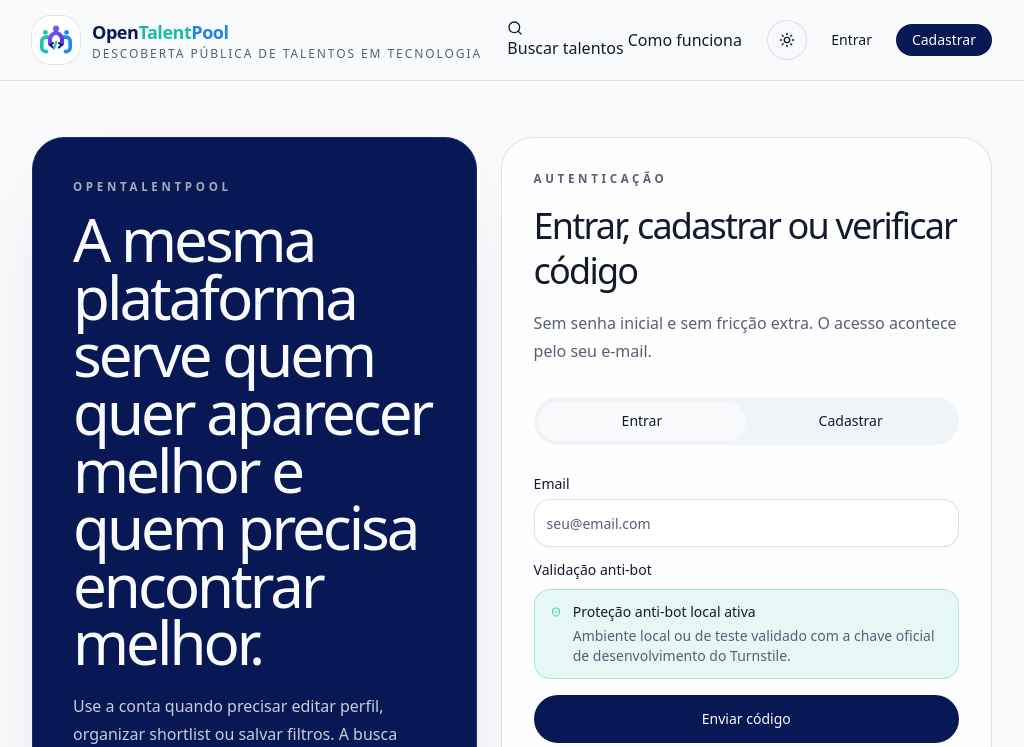
Test: Auth › avisa no passo de verificação quando a retomada local foi desativada por rejeição de cookies
Check: the text "Proteção anti-bot local ativa" is shown, box [573, 602, 756, 621]
Type "gaellopes@protonmail.com" into the field labelled "Email".
click(746, 523); type("gaellopes@protonmail.com")  # box [534, 499, 959, 547]
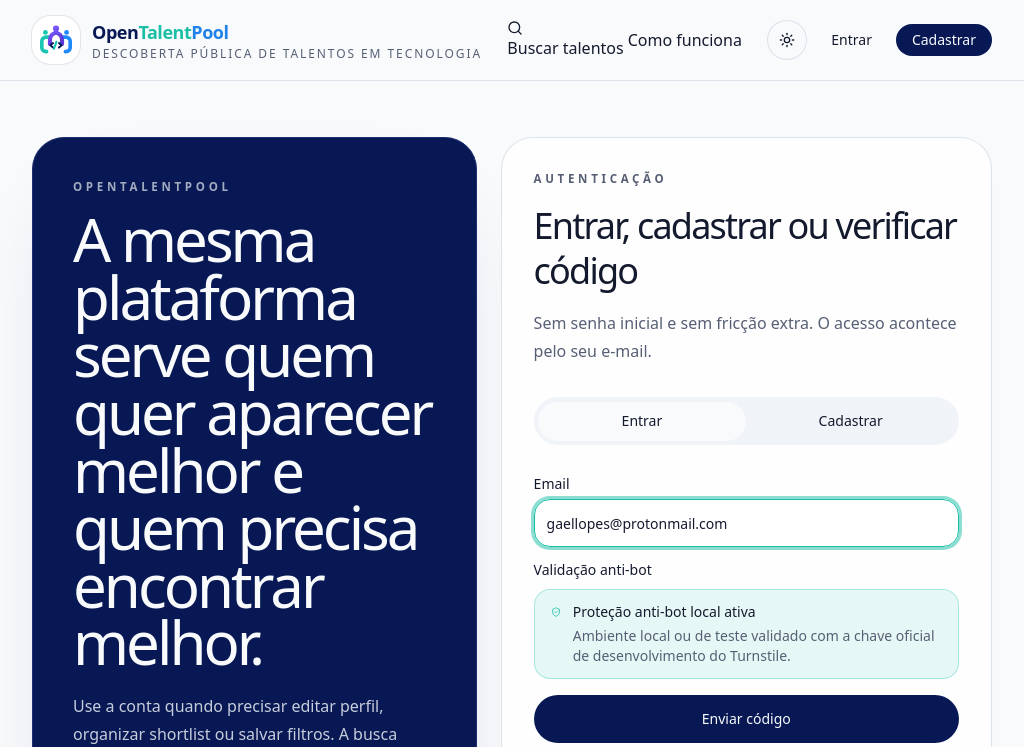
Click the button "Enviar código".
click(746, 719)  # box [534, 695, 959, 743]
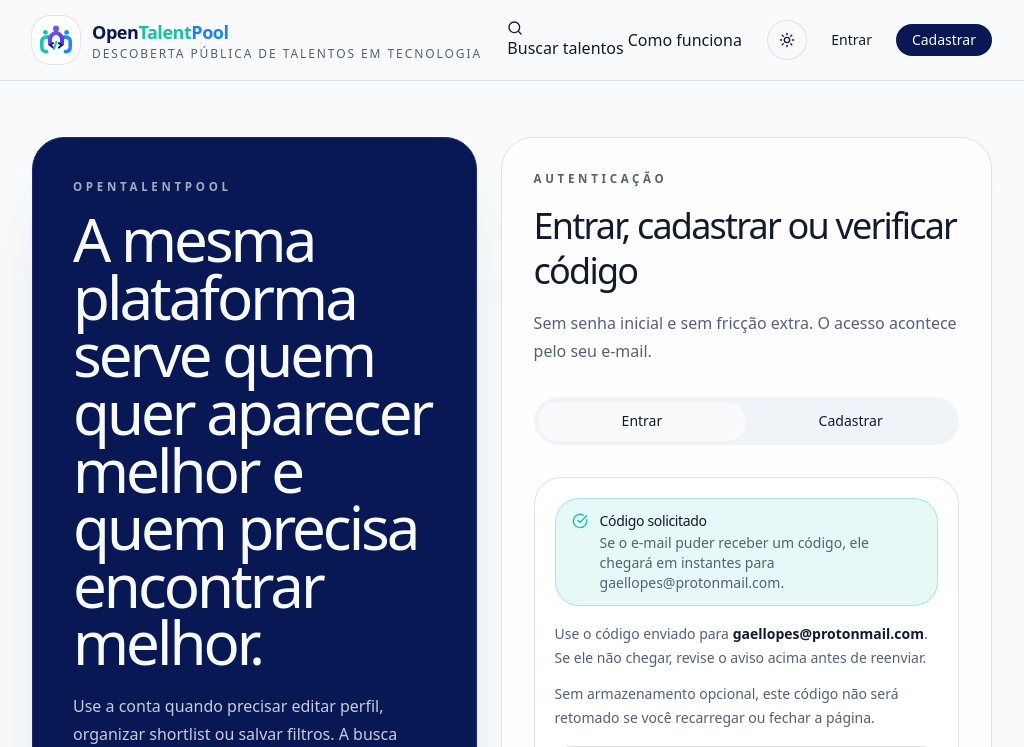
Check: the text "sem armazenamento opcional, este código não será retomado se você recarregar ou fechar a página" is shown, box [555, 684, 899, 727]
